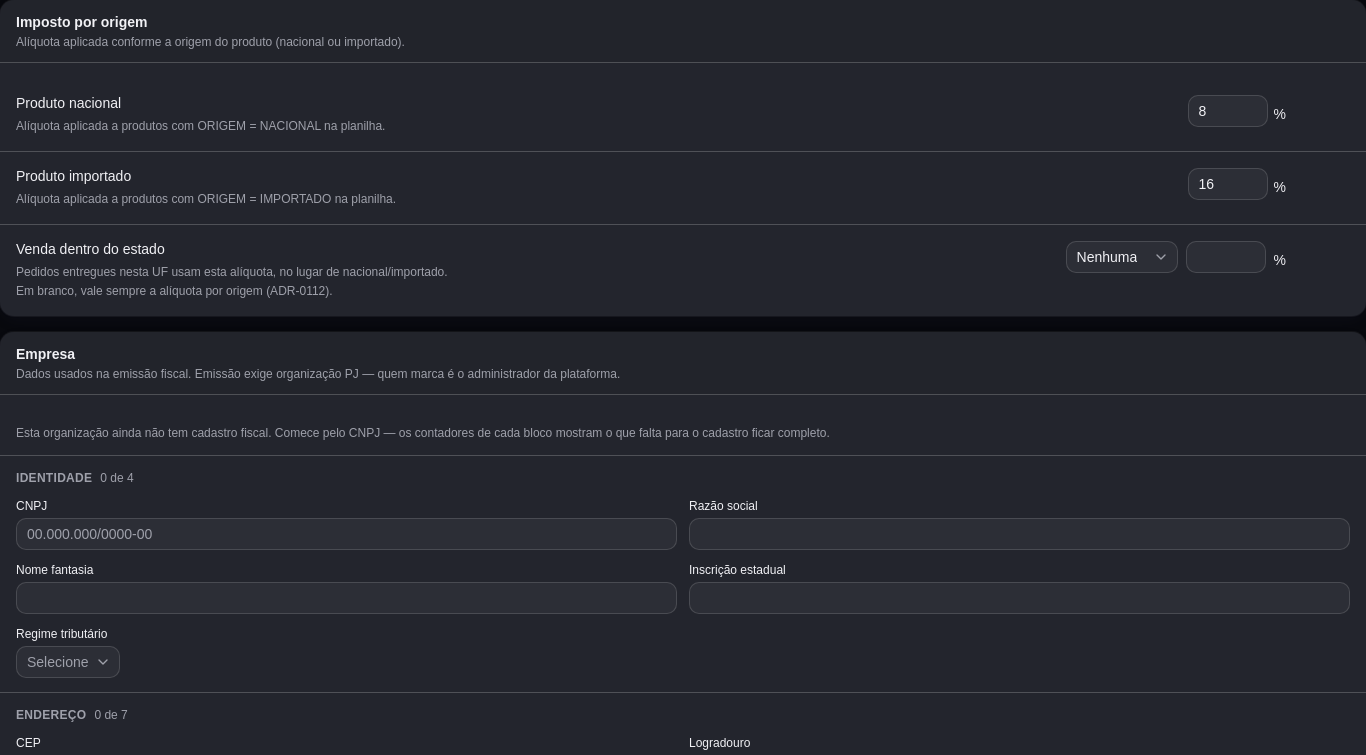
Configurações — bloco Empresa (ADR-0135) › CNPJ com dígito errado não salva e mostra o erro
The image size is (1366, 755).
Step 1. Type "11222333000180" into the field labelled "CNPJ" → (346, 534), box [16, 518, 677, 550]
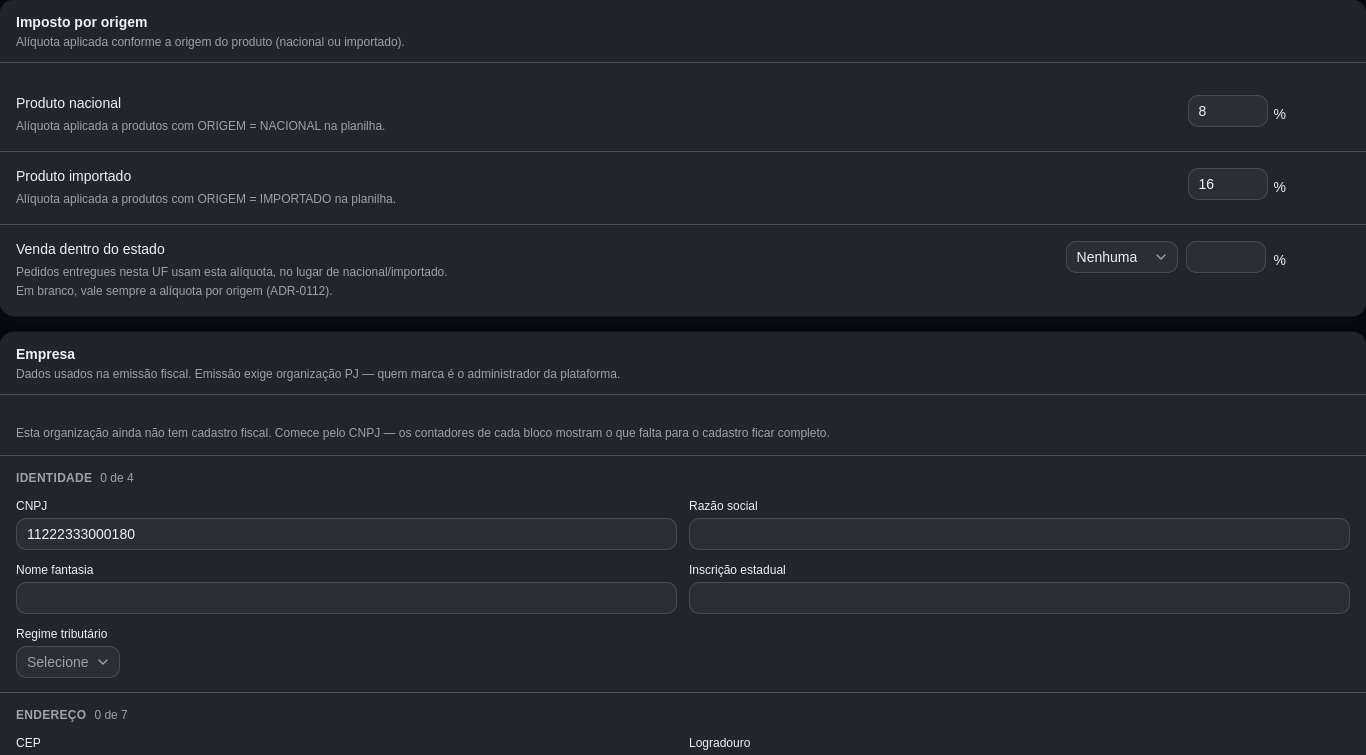
Step 2. Leave the field labelled "CNPJ", box [16, 518, 677, 550]
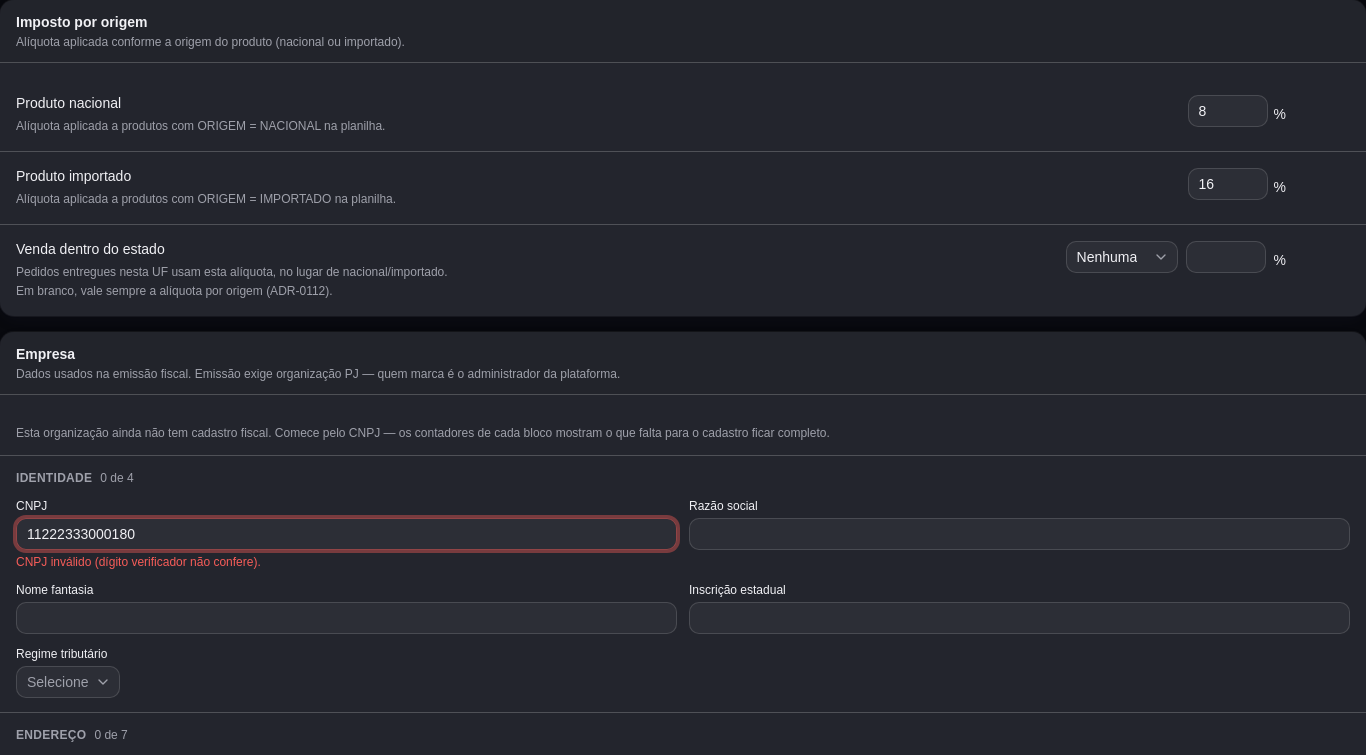
Now the text "CNPJ inválido (dígito verificador não confere)." is shown, box [16, 555, 261, 569]
